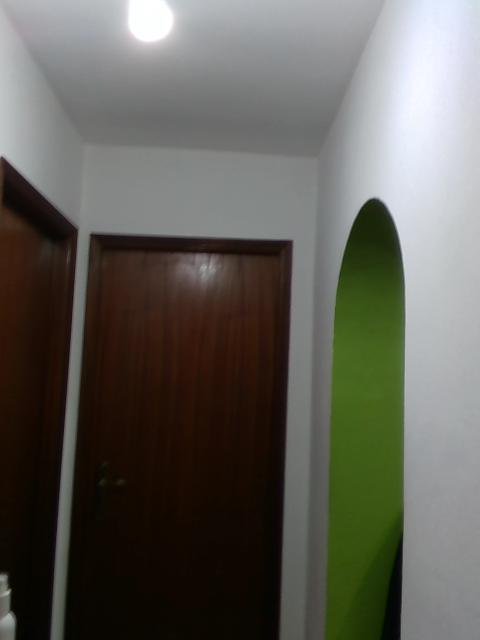closed_door: (61, 232, 292, 638)
